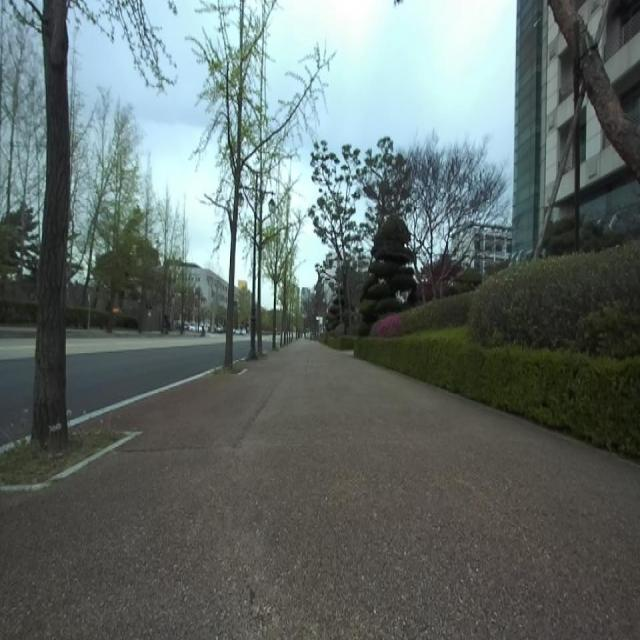sidewalk: (0, 340, 640, 639), (67, 369, 216, 427), (0, 436, 30, 454)
